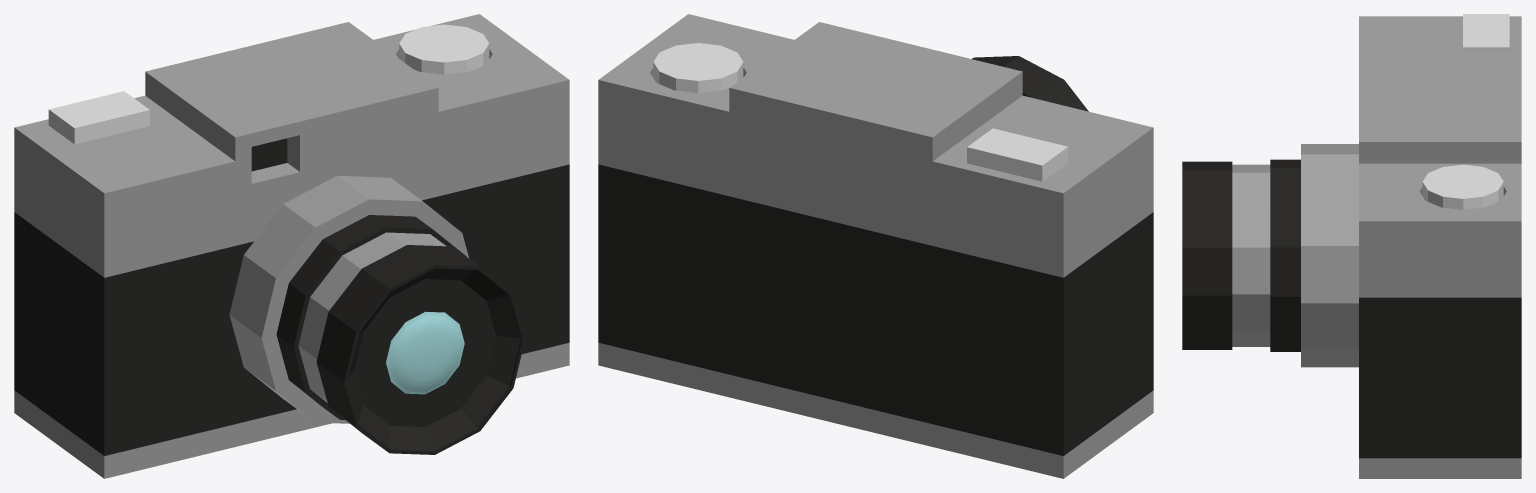
File: camera.gltf
The picture shows the model from 3 angles, left to right: view 1: azimuth 30°, elevation 25°; view 2: azimuth 150°, elevation 25°; view 3: azimuth 270°, elevation 25°; orthographic projection. The views are drawn at different scales.
Visible parts, largest first — view 1: CameraMain, Lens, Button1, Button2; view 2: CameraMain, Button1, Button2, Lens; view 3: CameraMain, Lens, Button1, Button2.
Boxes of the visible parts, left/top/right/bottom form: CameraMain: left=14, top=14, right=569, bottom=478; Lens: left=229, top=176, right=525, bottom=454; Button1: left=399, top=24, right=489, bottom=74; Button2: left=48, top=91, right=149, bottom=144; CameraMain: left=598, top=14, right=1153, bottom=478; Button1: left=653, top=43, right=743, bottom=92; Button2: left=967, top=128, right=1068, bottom=181; Lens: left=972, top=56, right=1088, bottom=111; CameraMain: left=1359, top=16, right=1521, bottom=478; Lens: left=1182, top=144, right=1358, bottom=367; Button1: left=1422, top=164, right=1503, bottom=209; Button2: left=1463, top=14, right=1509, bottom=52.
Size of the model in its own units: 3.41 by 2.17 by 2.39.
